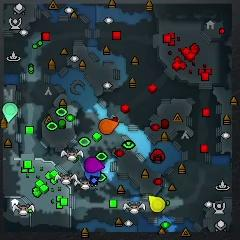p1: (84, 170, 101, 181)
p2: (3, 102, 17, 122)
p3: (84, 157, 104, 171)
p4: (149, 195, 165, 211)
p5: (99, 119, 119, 134)
